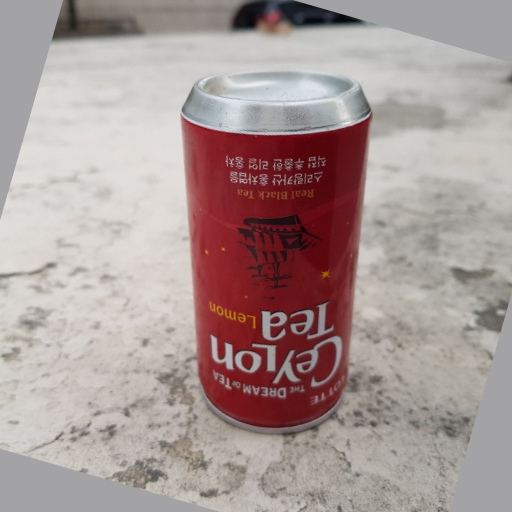Metal_0: (175, 66, 375, 437)
